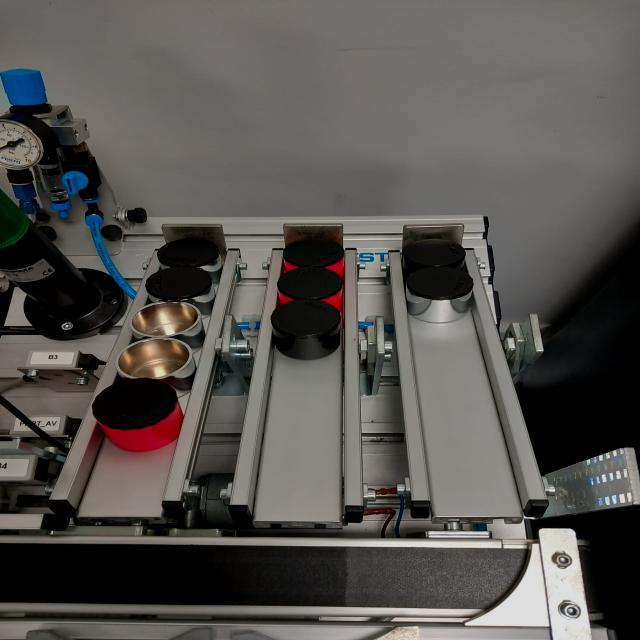NoLid: (110, 340, 197, 384), (126, 304, 202, 338)
Workpiece: (83, 386, 184, 452), (271, 303, 342, 367), (406, 269, 475, 327), (277, 264, 344, 311), (149, 272, 216, 313), (155, 241, 223, 278), (398, 239, 474, 272), (281, 239, 350, 272)
